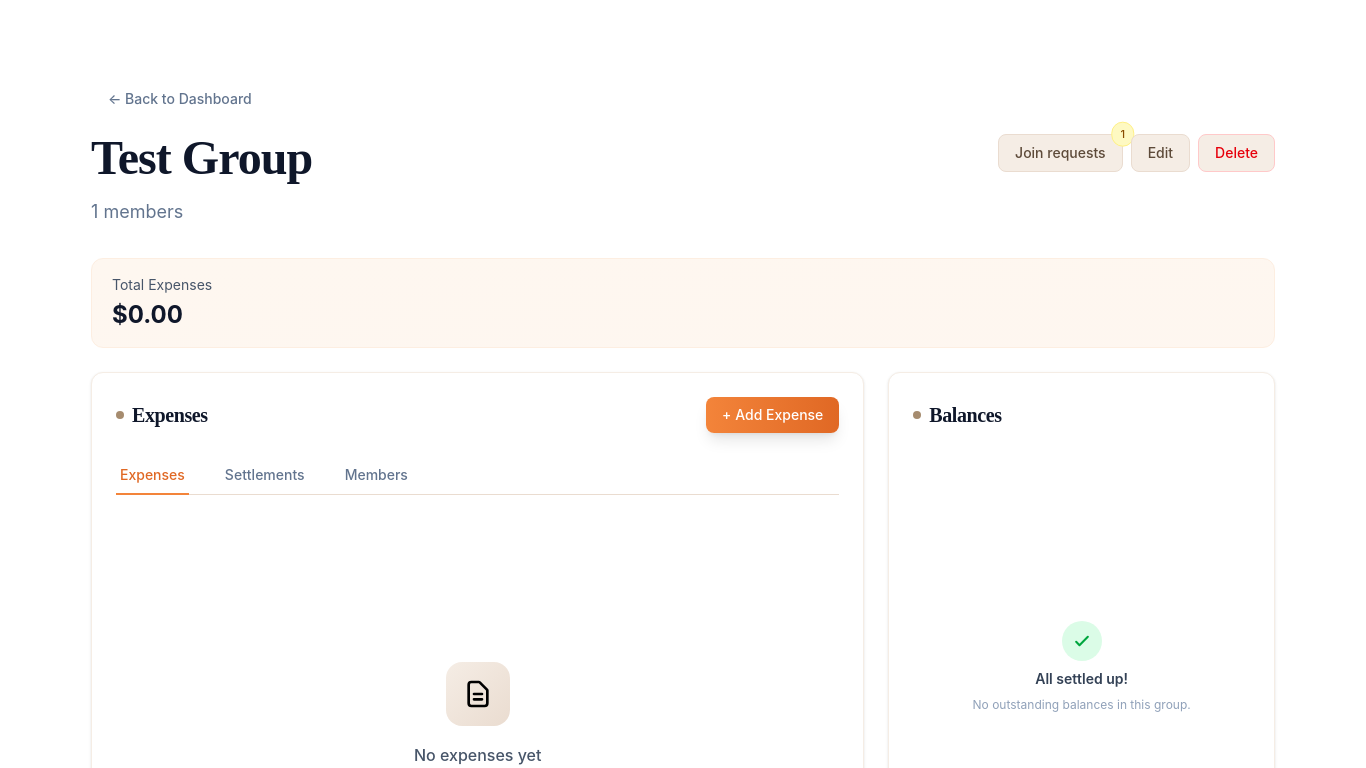
Test case: GroupDetailPage › Settlement History › renders empty state when no settlements
The image size is (1366, 768).
Click the tab "Settlements": coordinates (265, 476) top-left (221, 457), bottom-right (309, 495)
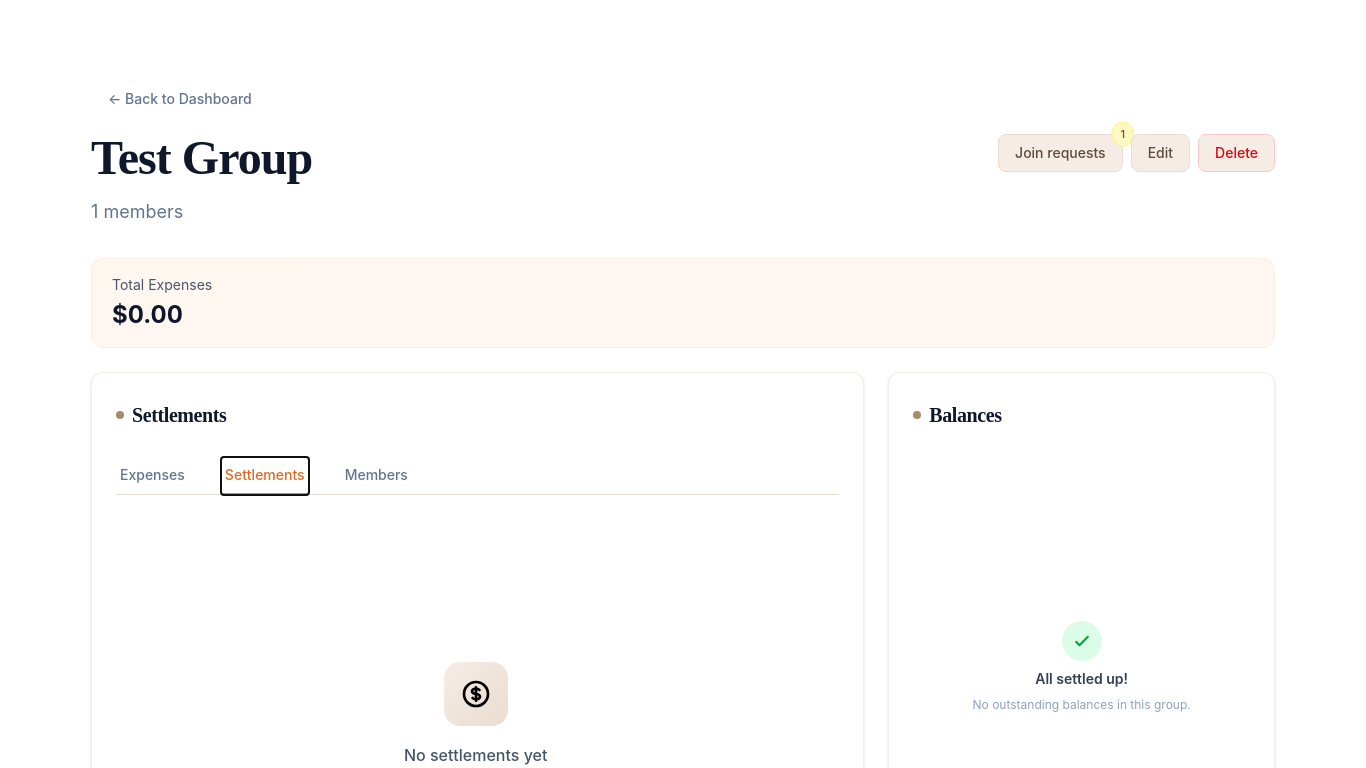
Check: the text "No settlements yet" is shown, box top-left (404, 742), bottom-right (547, 767)
